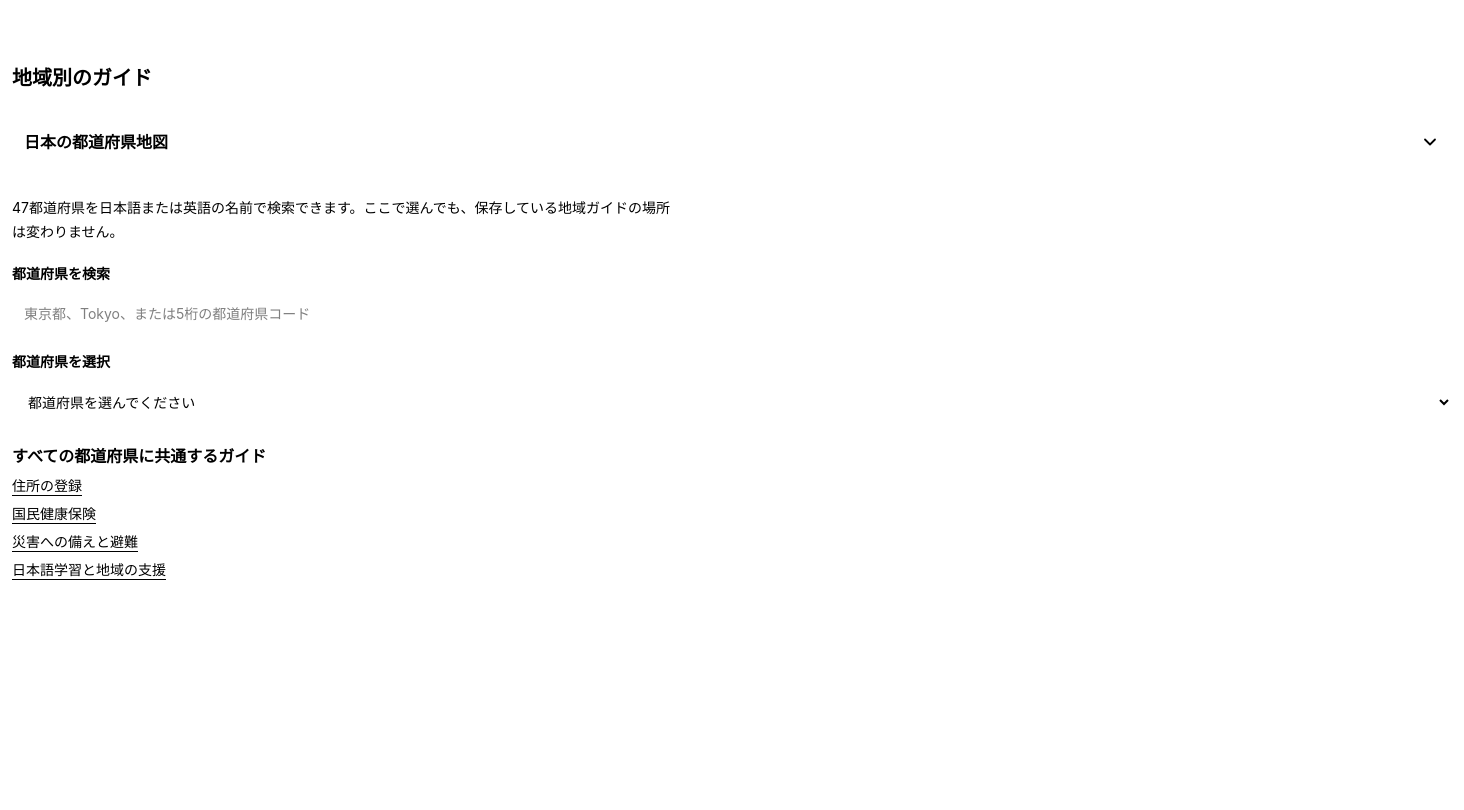
Test: PrefectureFinder › shows an explicit local coverage gap in Japanese
Select "愛知県" in the dropdown labelled "都道府県を選択" at point(732, 402), box [12,380,1452,424]
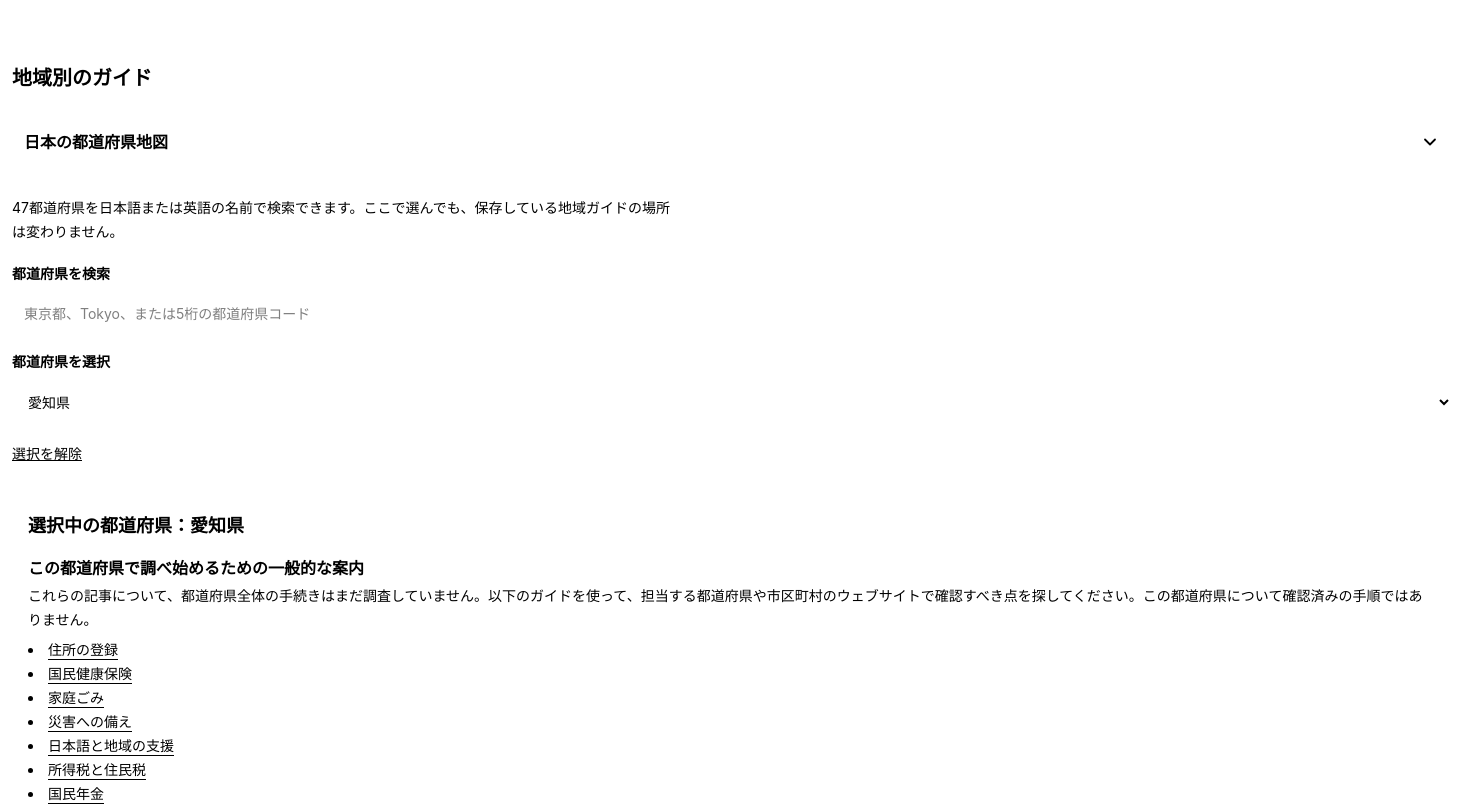
Expected: the text "日本の都道府県地図" is shown, [24,130,168,154]
Expected: the text "都道府県全体の手続きはまだ調査していません" is shown, [28,587,1422,628]
